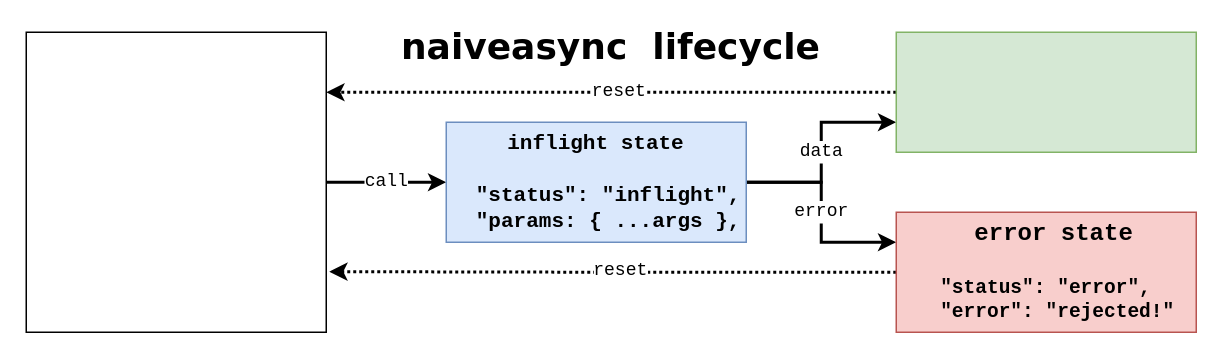
This 1223x359 diagram has some shape labels left out. The shapes that lost their labels are listed below. From the top down, each one's centre as x and y in pixels, then its label:
point 1045,91: done state "status": "done", "data": {...resolved }
point 175,181: initial (reset) state "status": "", "params: {}, "error": "", "data": null
